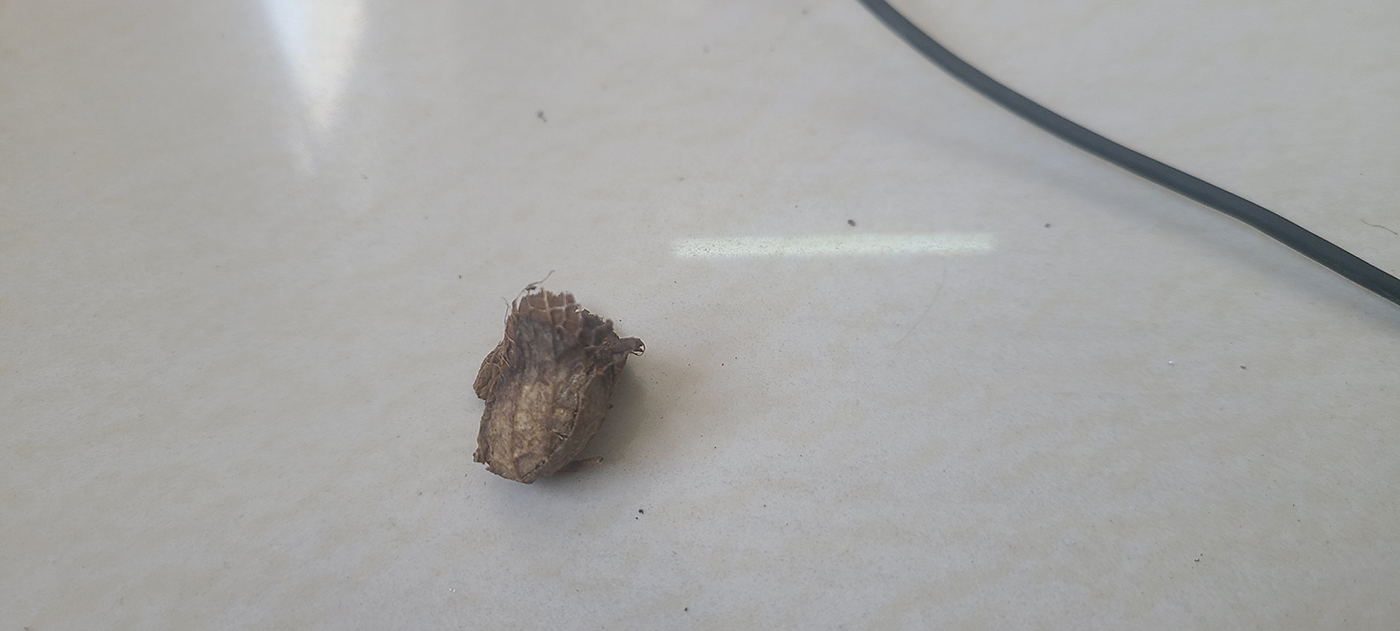l: (473, 287, 644, 482)
